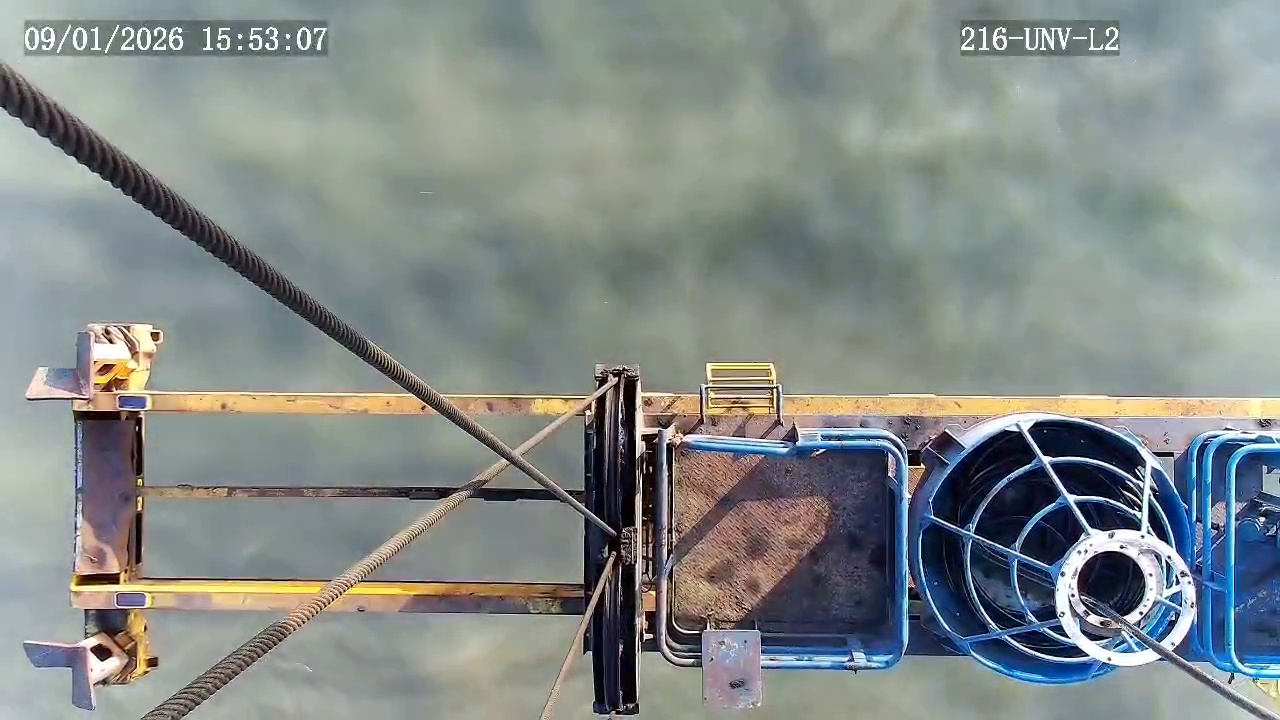left: (1057, 528, 1198, 666)
